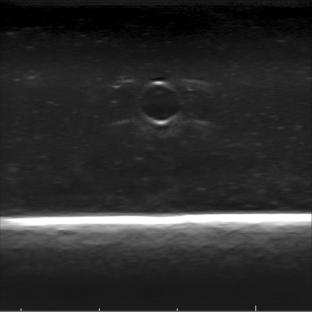vessel: (135, 79, 185, 127)
